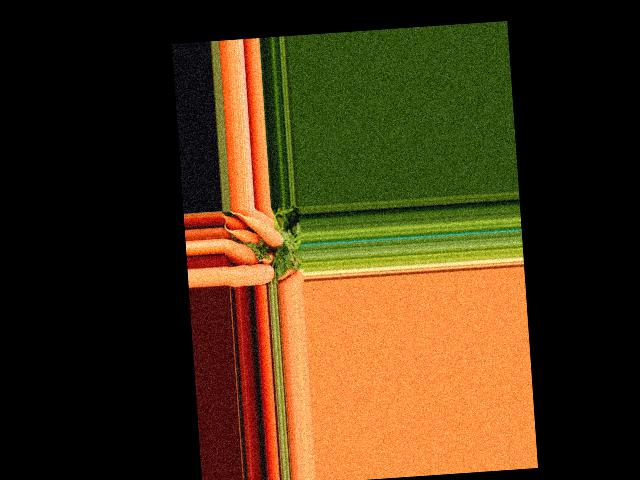carrot: (225, 260, 277, 287)
